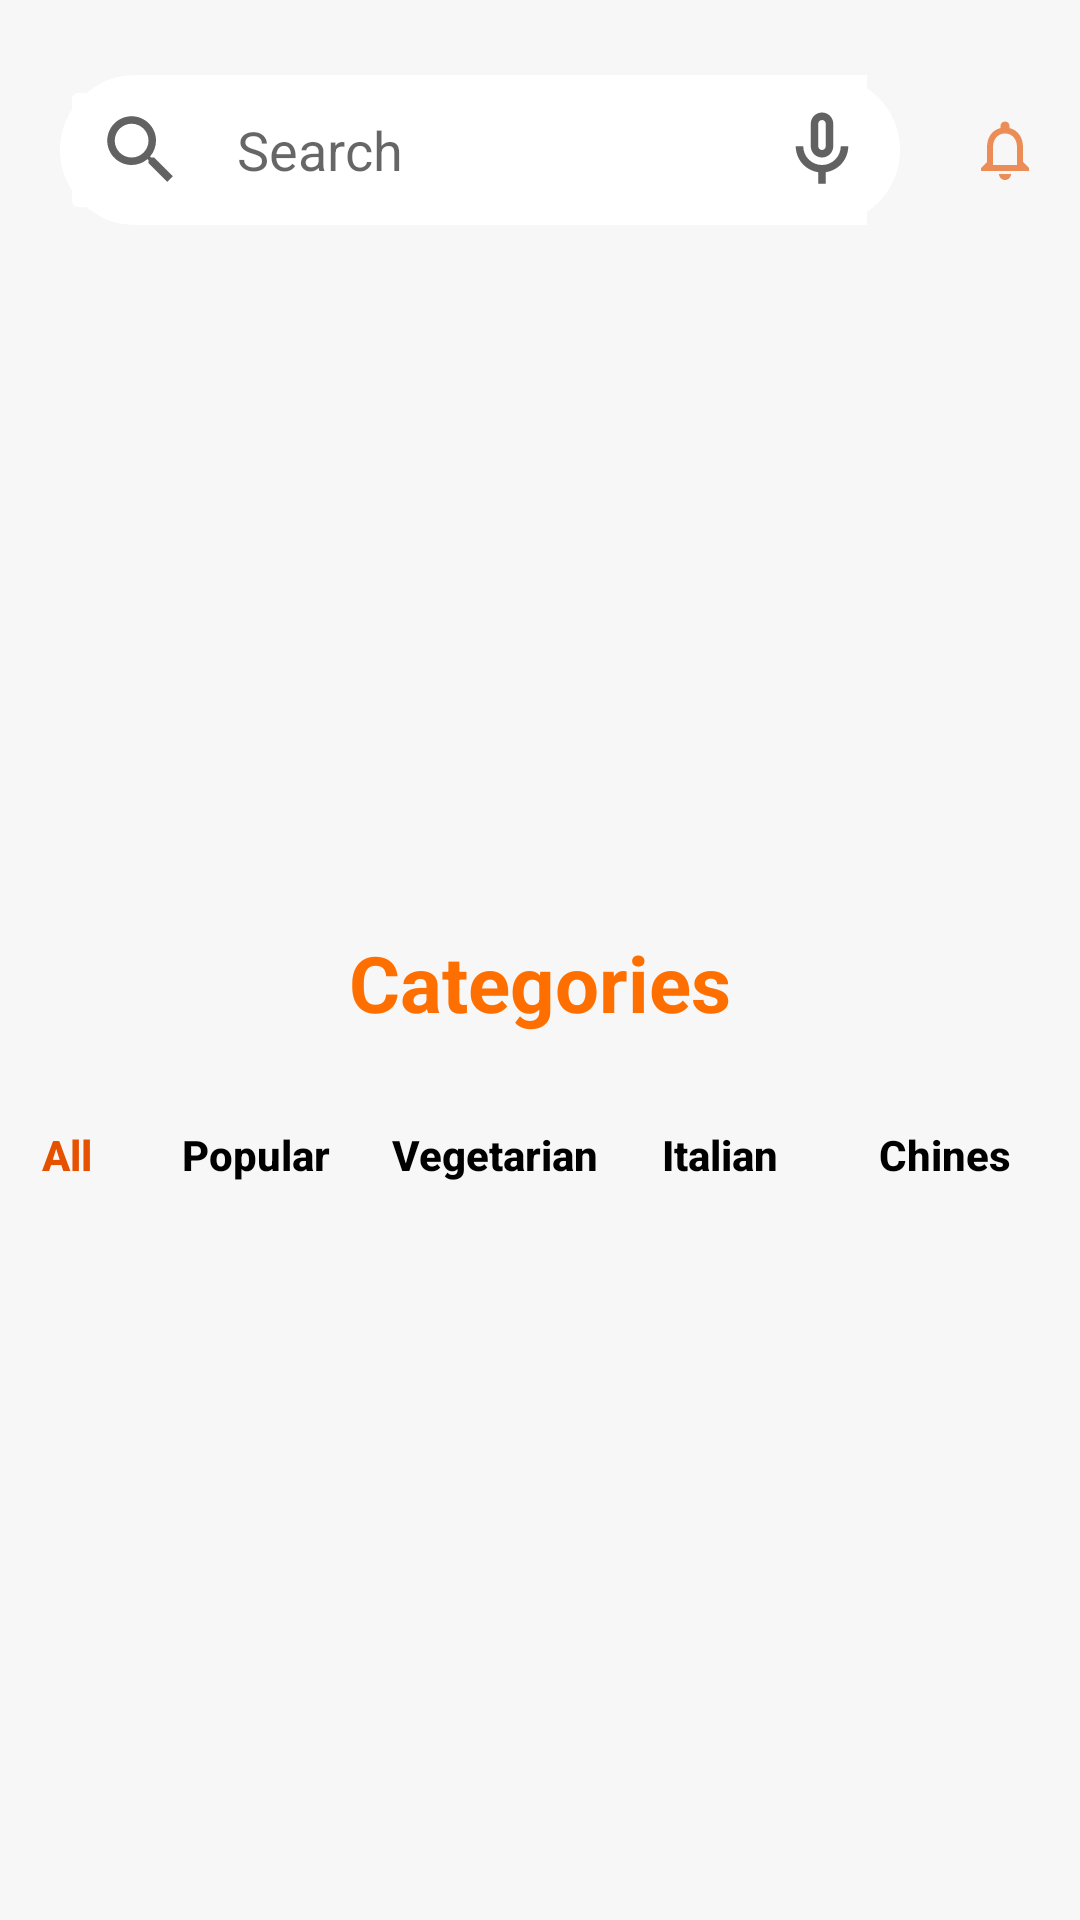

Screen size 1080px x 1920px. Icon name, then its center in pixels as (x=x, y=y):
mic none: (x=822, y=148)
notifications: (x=1005, y=150)
